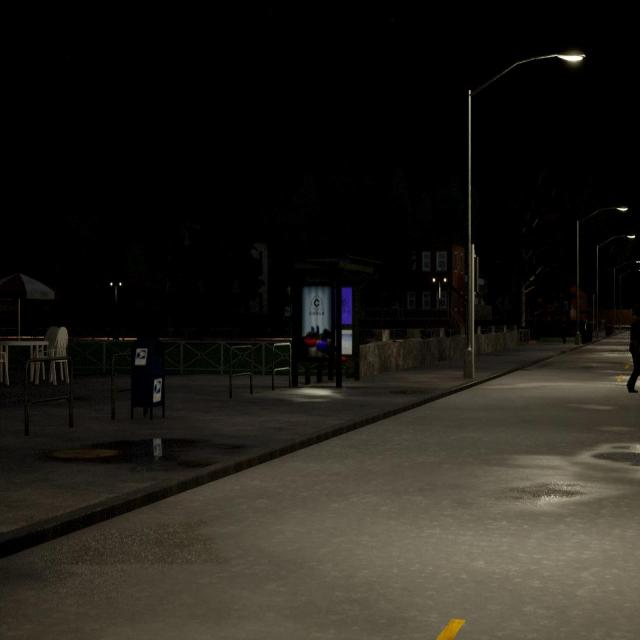Pedestrian: (627, 305, 639, 393)
traffic_light: (470, 250, 482, 296)
